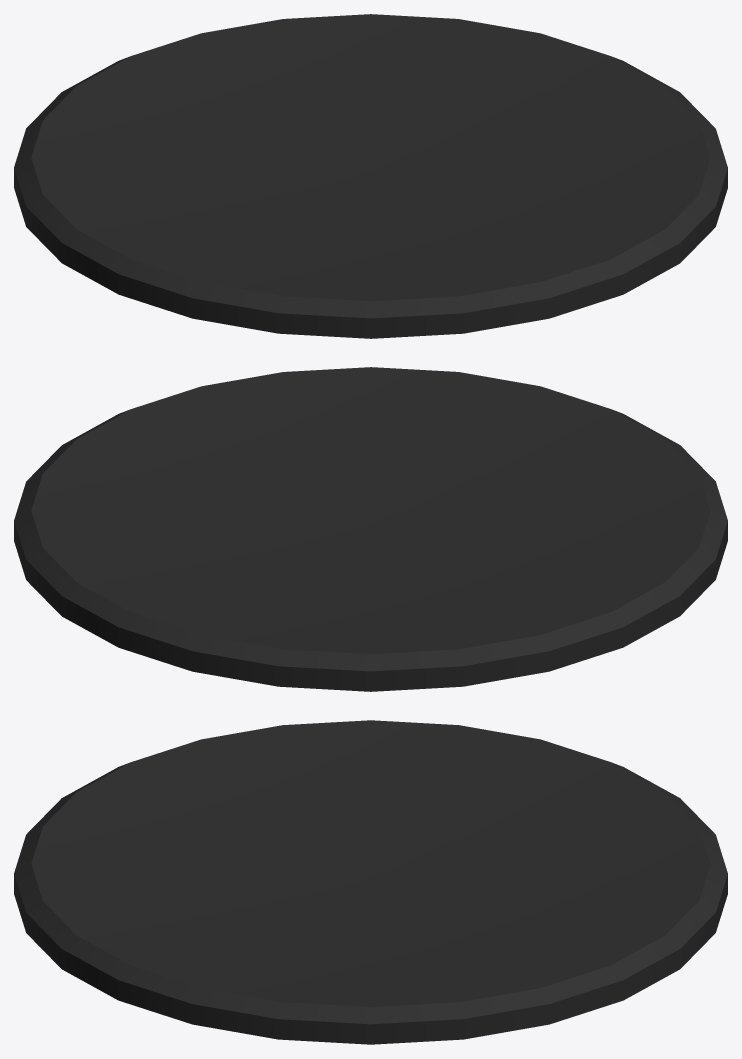
The model's file is Turret_004.fbx.
3 renders of one model, top to bottom at view 1: azimuth 30°, elevation 25°; view 2: azimuth 150°, elevation 25°; view 3: azimuth 270°, elevation 25°, orthographic.
Visible parts, largest first — view 1: Turret_004; view 2: Turret_004; view 3: Turret_004.
Boxes of the visible parts, bbox=[...] form: Turret_004: bbox=[14, 14, 727, 338]; Turret_004: bbox=[14, 367, 727, 691]; Turret_004: bbox=[14, 720, 727, 1044].
Bounding box in the file's own units: 155 × 155 × 7.24.
